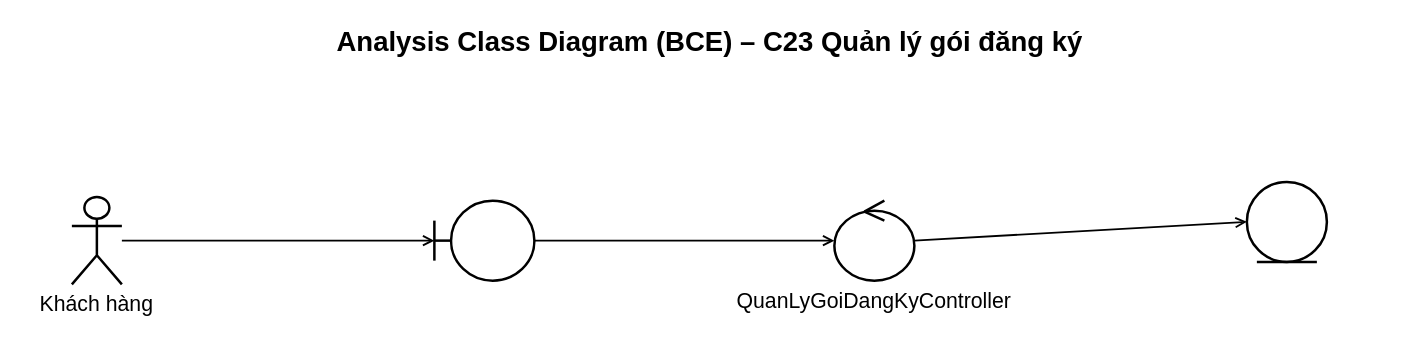
This 1418x339 diagram has some shape labels left out. The box of each missing label's shape, as (x1, y1, x2, y2) in pixels:
DangKyDichVu: (1245, 180, 1328, 262)
QuanLyGoiDangKyPage: (432, 199, 535, 281)
